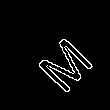M_NW: (21, 21, 89, 89)
